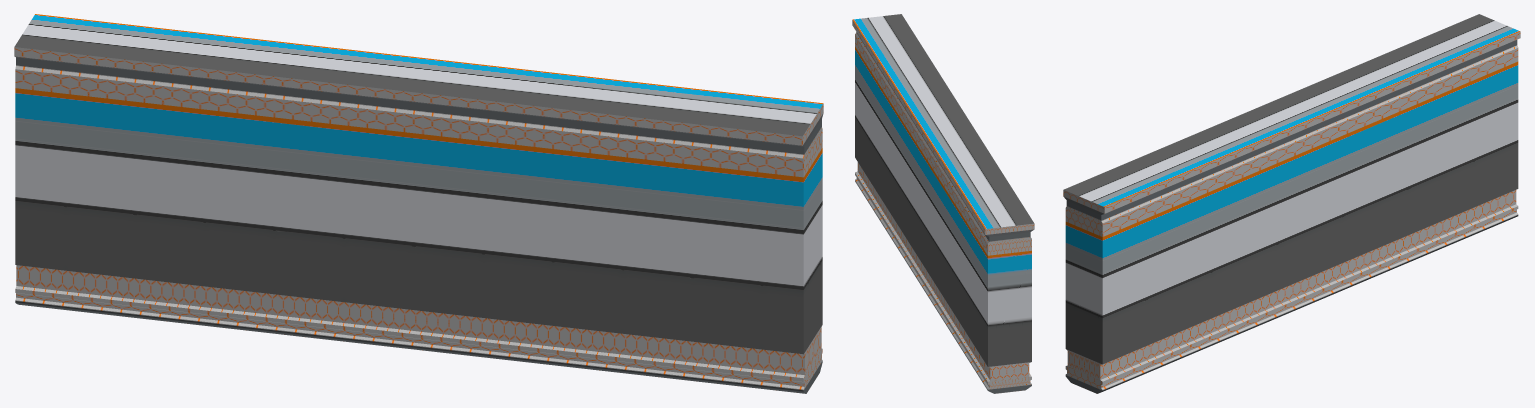
File: LongWallCorner.fbx
The picture shows the model from 3 angles, left to right: view 1: azimuth 30°, elevation 25°; view 2: azimuth 150°, elevation 25°; view 3: azimuth 270°, elevation 25°; orthographic projection. The views are drawn at different scales.
Parts seen in each view (by area): view 1: WallPiece3; view 2: WallPiece3; view 3: WallPiece3.
Boxes of the visible parts, <box> form: WallPiece3: <box>14,14,823,393</box>; WallPiece3: <box>852,14,1034,393</box>; WallPiece3: <box>1063,14,1520,393</box>.
Size of the model in its own units: 4.36 by 2 by 4.36.
